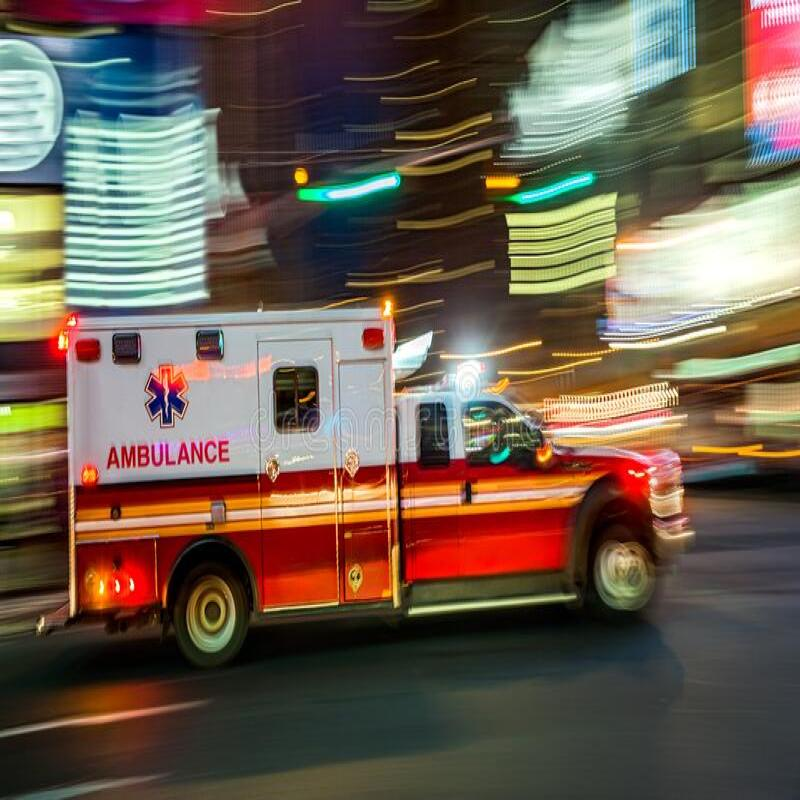ambulance: (38, 284, 702, 628)
